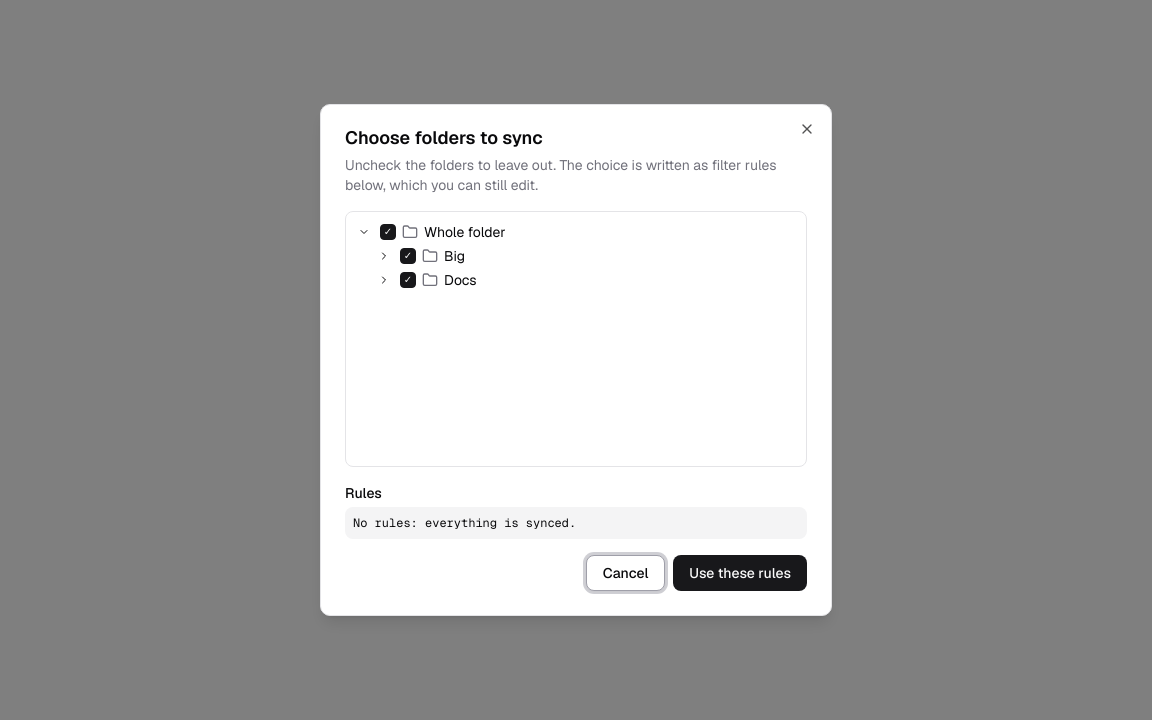
FolderRulesDialog › explains a subfolder that cannot be listed
Click the button named "Show folders in Big".
click(384, 256)  # box [374,246,394,266]
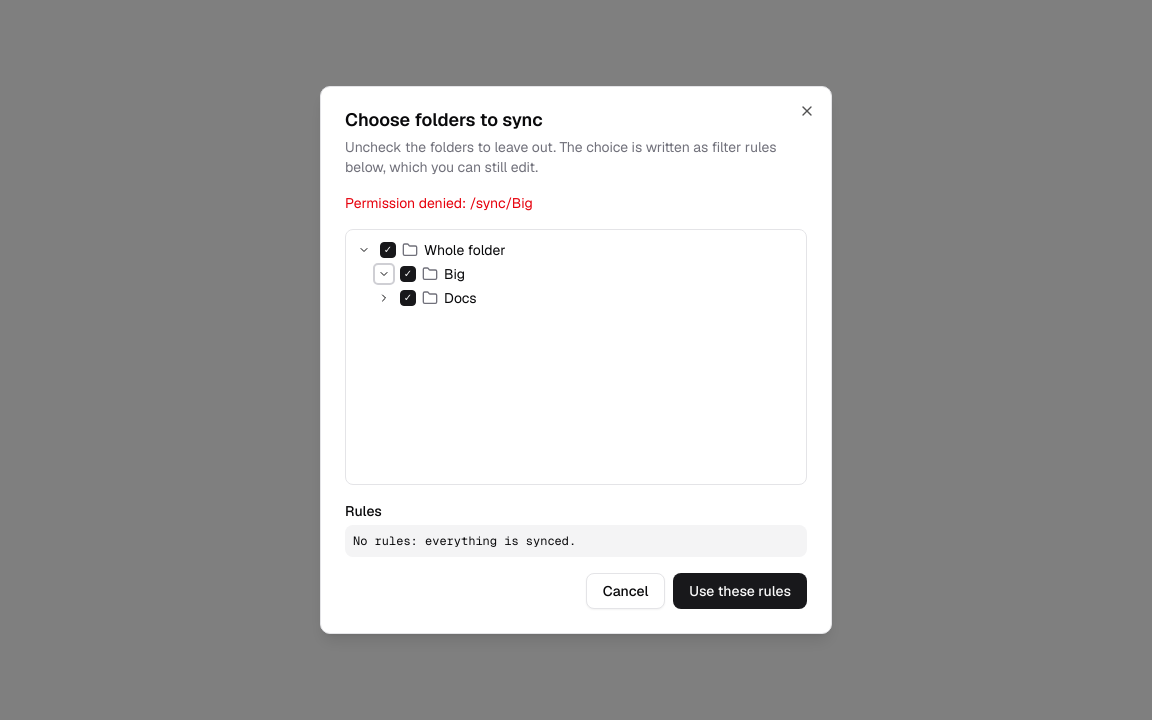
expect the message reads "Permission denied: /sync/Big": met, box [345,194,533,212]
